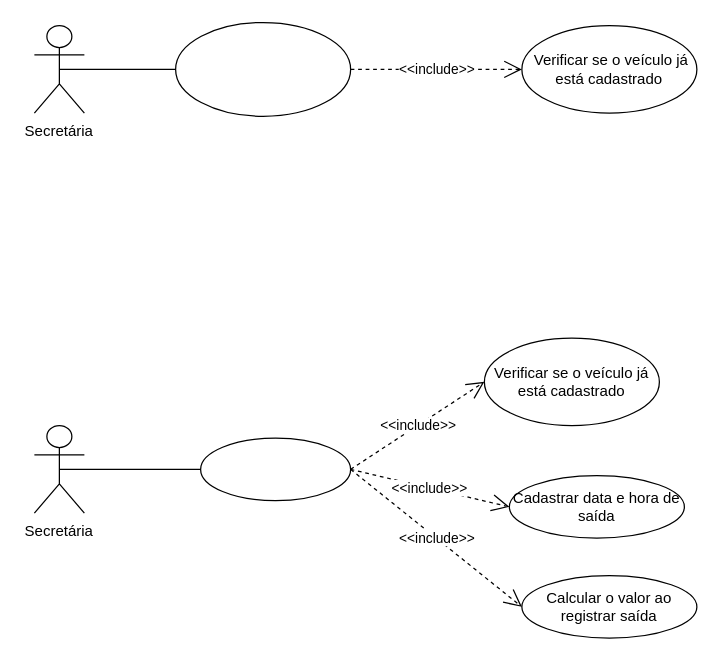
This 719x660 diagram has some shape labels left out. The shapes that lost their labels are listed below. From the top down, each one's centre as x and y in pixels, then its label:
At [262,68]: "[RF001] fazer CRUD de Automoveis".
At [275,469]: "[RF002] Fazer CRUD de Estadias".
